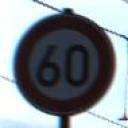speed_limit_60: (11, 11, 117, 117)
